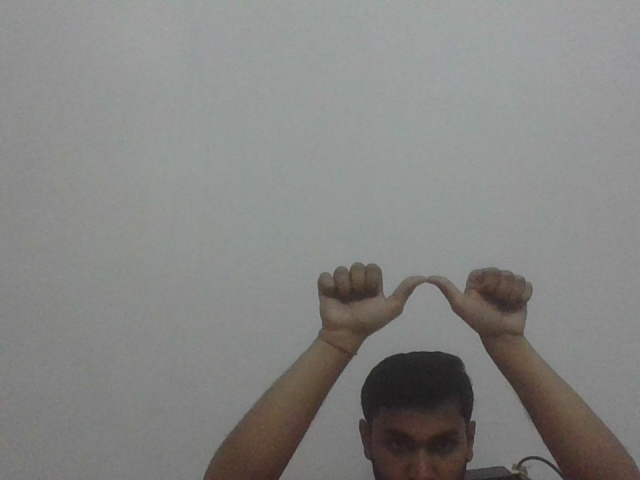A: (317, 262, 537, 334)
